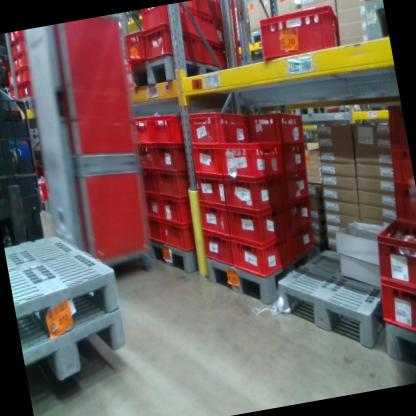pallet: (276, 235, 408, 371), (2, 214, 128, 356), (11, 268, 139, 397), (200, 234, 340, 325), (127, 44, 230, 99), (142, 230, 205, 285), (379, 314, 416, 386), (287, 97, 334, 125), (247, 28, 267, 50), (14, 96, 38, 113), (36, 194, 54, 214)
small_load_carrier: (254, 0, 348, 69), (366, 211, 416, 308), (219, 162, 291, 225), (226, 223, 298, 285), (222, 195, 291, 251), (217, 132, 284, 189), (181, 99, 250, 154), (140, 15, 204, 74), (242, 100, 306, 150), (187, 131, 242, 188), (377, 276, 416, 354), (136, 0, 200, 42), (149, 132, 196, 180), (151, 160, 197, 208), (156, 184, 199, 233), (148, 104, 191, 152), (114, 20, 153, 71), (197, 197, 232, 245), (161, 214, 200, 256), (287, 221, 322, 265), (197, 5, 231, 50), (198, 227, 233, 270), (388, 178, 416, 227), (283, 197, 315, 239), (196, 169, 227, 212), (278, 140, 312, 179), (385, 141, 414, 185), (124, 108, 154, 149), (198, 37, 234, 71), (378, 104, 406, 145), (136, 156, 159, 203), (138, 182, 163, 225), (194, 0, 227, 28), (284, 167, 311, 201), (141, 209, 165, 247), (133, 137, 156, 171), (19, 82, 39, 102), (14, 51, 31, 72), (13, 36, 28, 53), (18, 67, 31, 85), (6, 81, 16, 102), (13, 67, 22, 87), (4, 71, 15, 86), (8, 43, 17, 60), (14, 86, 24, 101), (11, 59, 20, 74), (12, 31, 26, 38), (8, 33, 16, 45)
